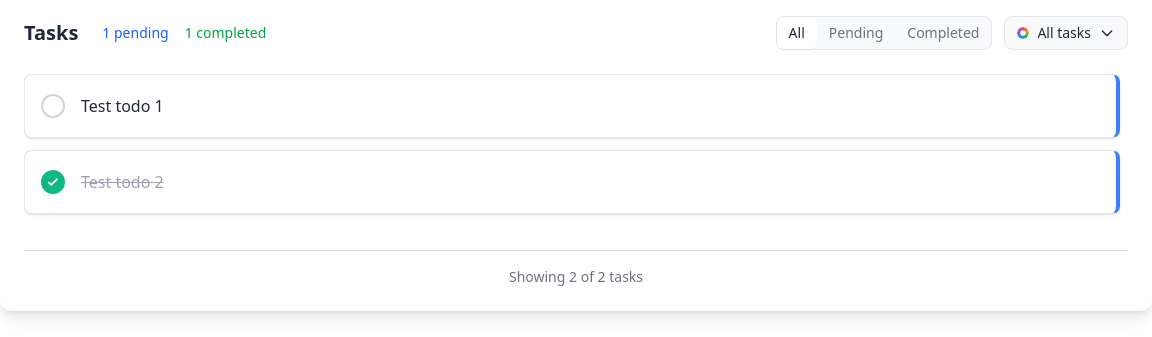
Test: TodoList › opens list filter dropdown
Click the button "All tasks" at point(1066, 33), box [1004,16,1128,50]
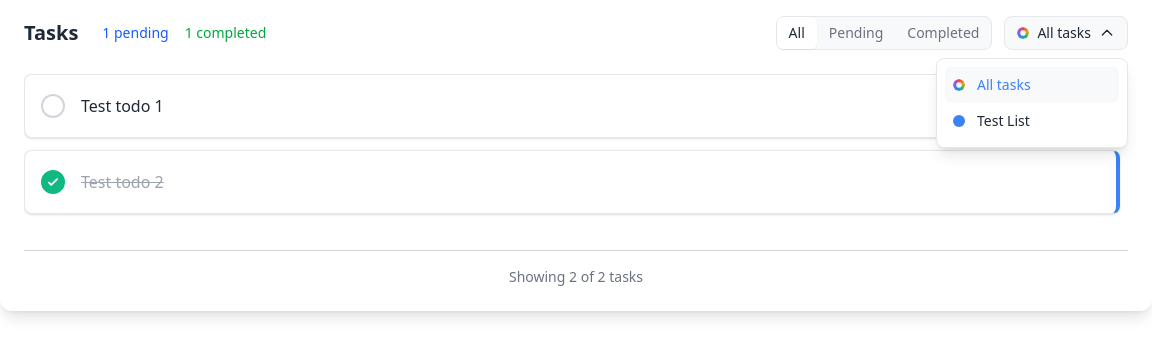
expect the text "Test List" is shown: met, box [977,111,1030,131]
